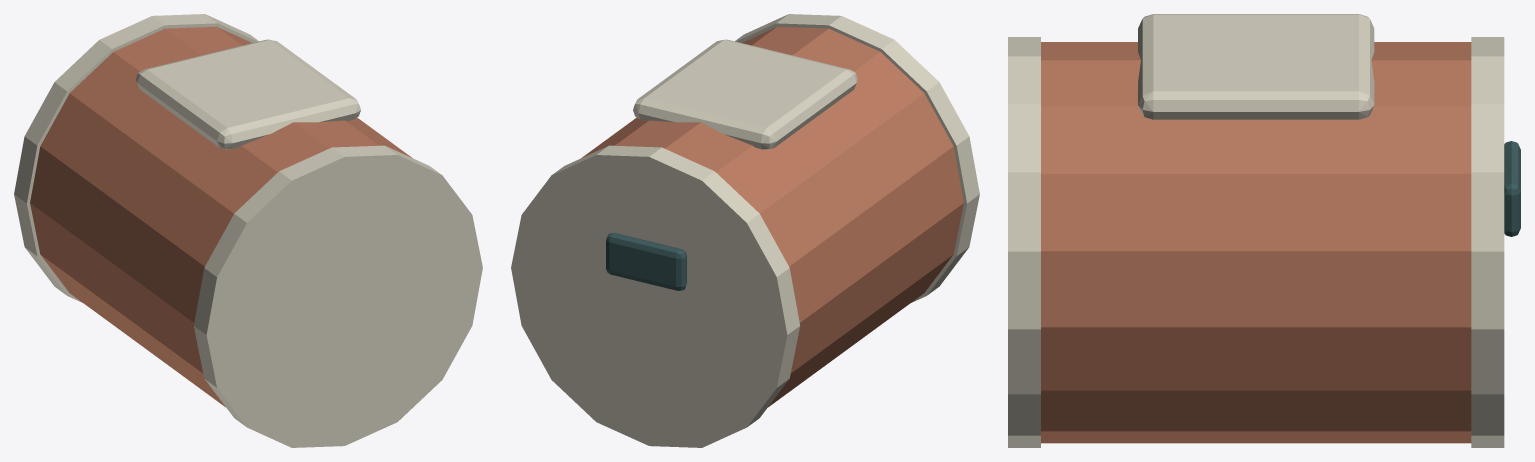
The model's file is can.glb.
The picture shows the model from 3 angles, left to right: view 1: azimuth 30°, elevation 25°; view 2: azimuth 150°, elevation 25°; view 3: azimuth 270°, elevation 25°; orthographic projection. The views are drawn at different scales.
Visible parts, largest first — view 1: Trash_surface; view 2: Trash_surface; view 3: Trash_surface.
Part boxes in pixels (x1,y1,x2,y2): Trash_surface: (14,14,482,447); Trash_surface: (511,14,979,447); Trash_surface: (1008,14,1520,447).
Bounding box in the file's own units: 0.174 × 0.1755 × 0.217.
